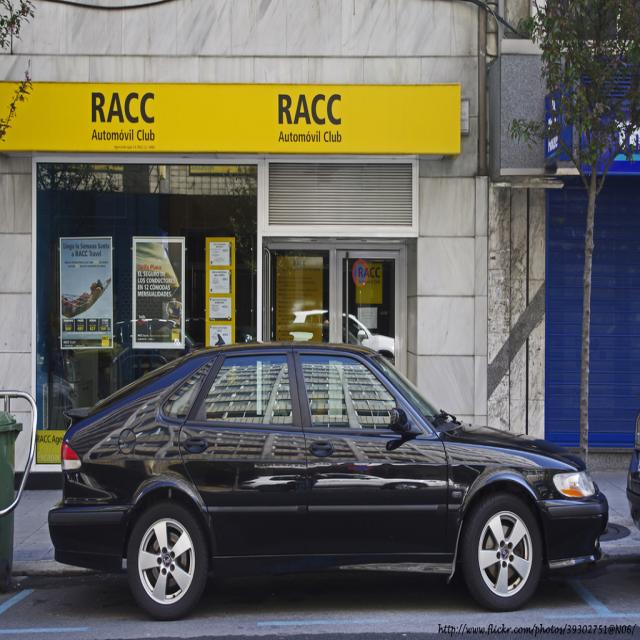car: (43, 347, 581, 615)
